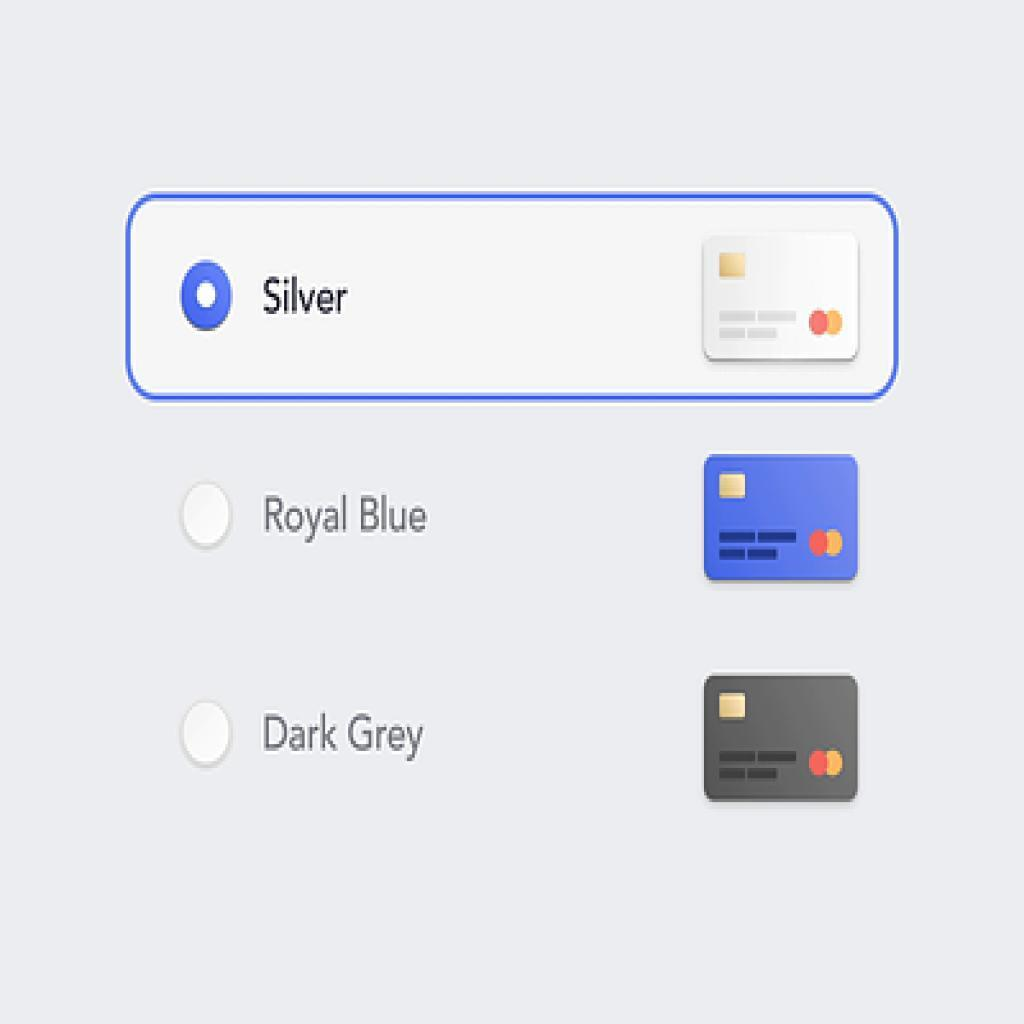radio: (174, 251, 246, 337), (181, 696, 237, 779), (179, 482, 238, 556)
